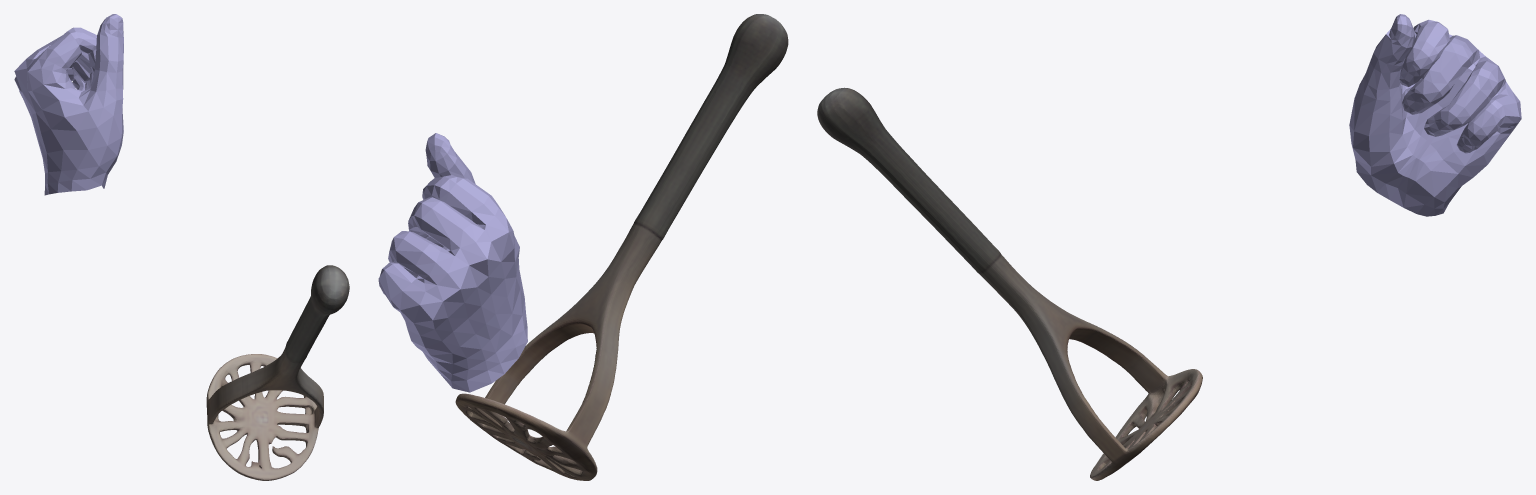
File: frame_0034_source_000034_hand_object.glb
3 renders of one model, left to right at view 1: azimuth 30°, elevation 25°; view 2: azimuth 150°, elevation 25°; view 3: azimuth 270°, elevation 25°, orthographic. The views are drawn at different scales.
Parts seen in each view (by area): view 1: world; view 2: world; view 3: world.
Part boxes in pixels (x1,y1,x2,y2): world: (14, 14, 349, 480); world: (378, 14, 788, 480); world: (817, 14, 1521, 480).
Bounding box in the file's own units: 0.117 × 0.2621 × 0.3789.
